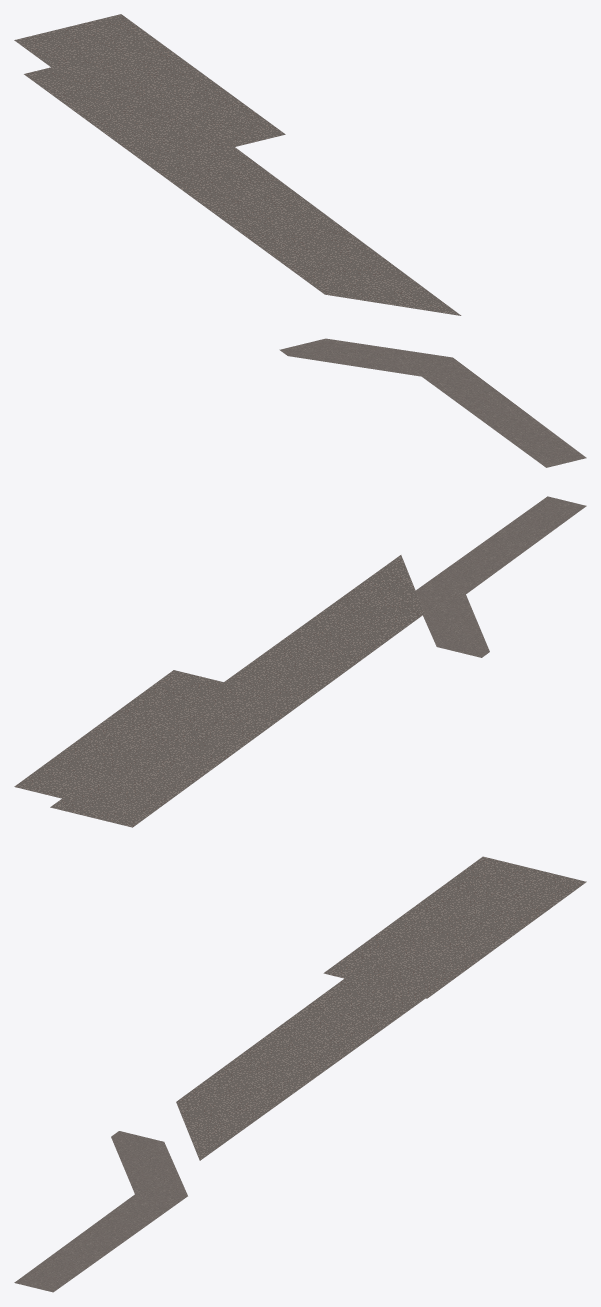
The model's file is kd_stage_135c43_3_2.glb.
3 renders of one model, top to bottom at view 1: azimuth 30°, elevation 25°; view 2: azimuth 150°, elevation 25°; view 3: azimuth 330°, elevation 25°, orthographic. The views are drawn at different scales.
Visible parts, largest first — view 1: kd_stage_135c43_3_2; view 2: kd_stage_135c43_3_2; view 3: kd_stage_135c43_3_2.
Boxes of the visible parts, x1=… form: kd_stage_135c43_3_2: x1=14, y1=14, x2=586, y2=467; kd_stage_135c43_3_2: x1=14, y1=496, x2=586, y2=827; kd_stage_135c43_3_2: x1=14, y1=856, x2=586, y2=1292.
Size of the model in its own units: 2.27 by 0.827 by 12.3.
Materials: 1 (1 with a texture image).
